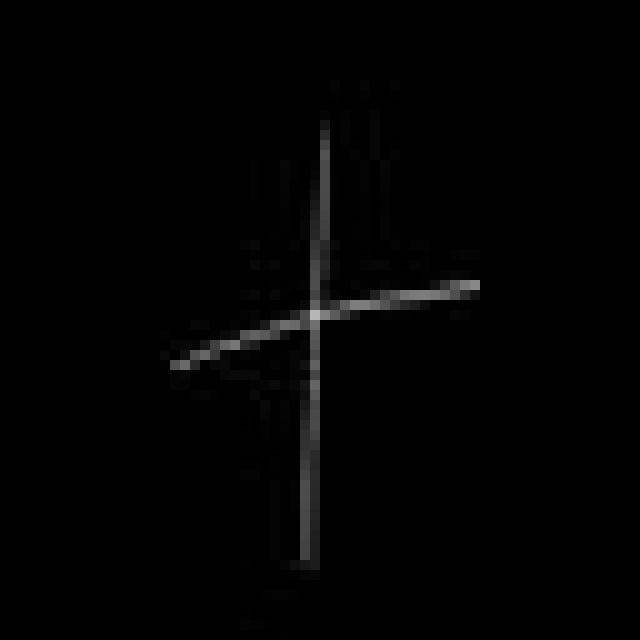10 -ten-: (161, 137, 486, 575)
